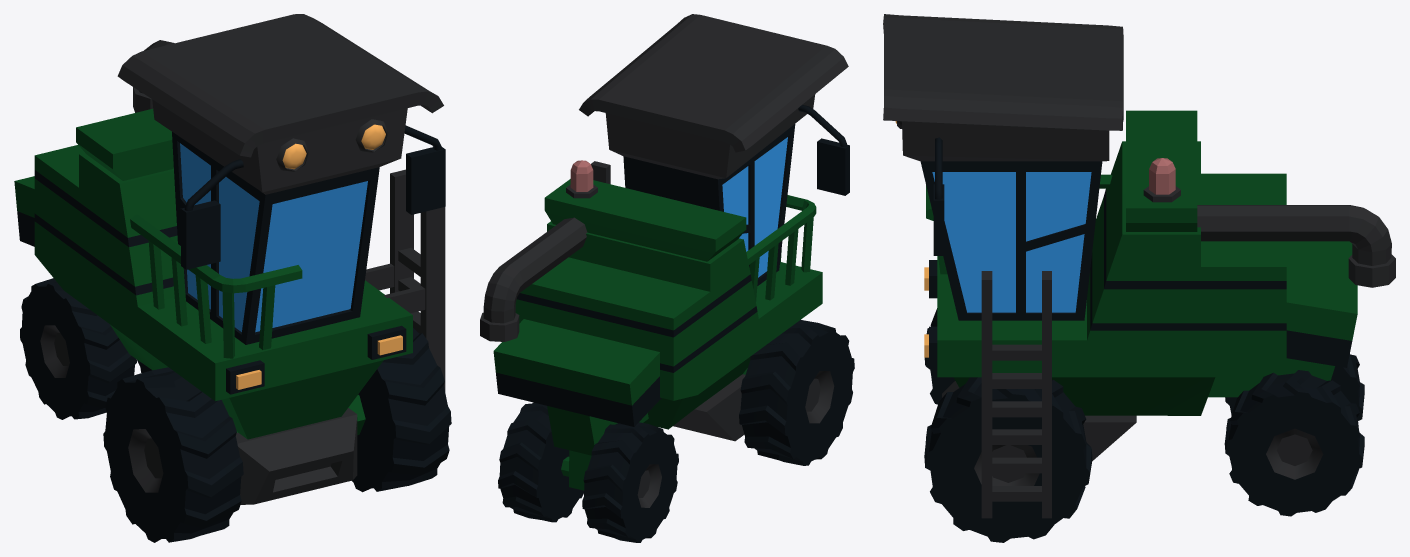
File: Harvester_2.fbx
3 renders of one model, left to right at view 1: azimuth 30°, elevation 25°; view 2: azimuth 150°, elevation 25°; view 3: azimuth 270°, elevation 25°, orthographic. The views are drawn at different scales.
Visible parts, largest first — view 1: Harvester_2; view 2: Harvester_2; view 3: Harvester_2.
Boxes of the visible parts, <box> form: Harvester_2: <box>14,14,451,542</box>; Harvester_2: <box>480,14,854,542</box>; Harvester_2: <box>883,14,1395,542</box>.
Bounding box in the file's own units: 87.97 × 130 × 141.
